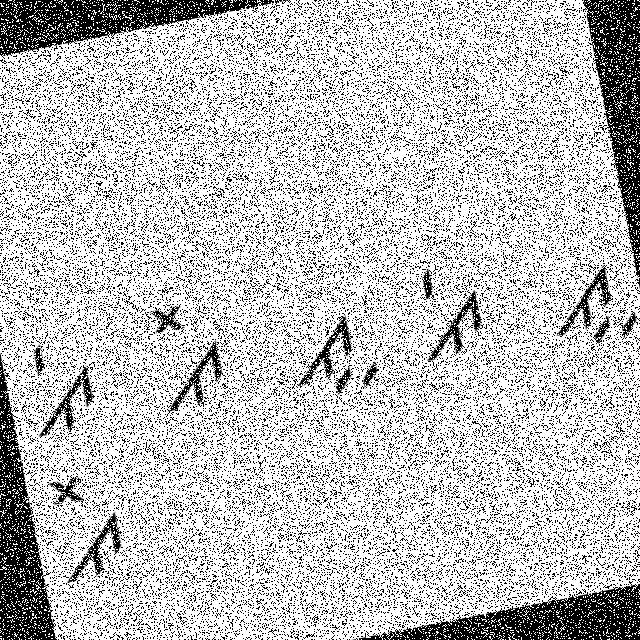kah: (267, 304, 390, 414), (530, 242, 639, 358)
ke: (400, 251, 501, 376), (10, 328, 106, 447)
ko: (34, 455, 138, 590), (135, 294, 238, 428)
